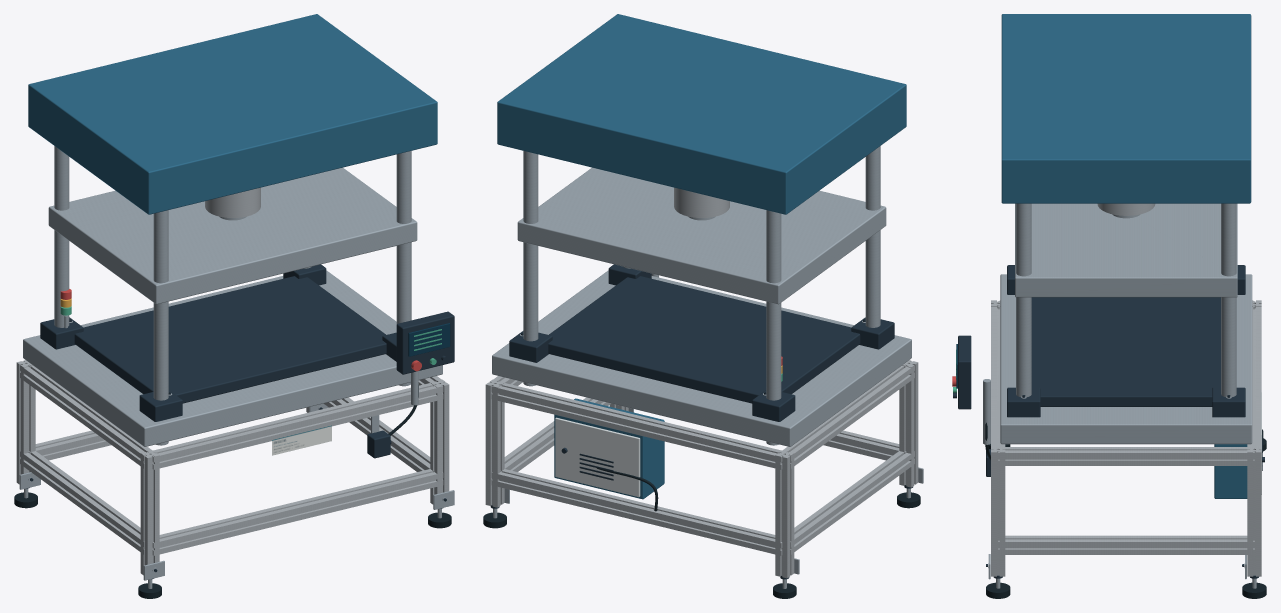
File: hydraulic-press.glb
The picture shows the model from 3 angles, left to right: view 1: azimuth 30°, elevation 25°; view 2: azimuth 150°, elevation 25°; view 3: azimuth 270°, elevation 25°; orthographic projection. The views are drawn at different scales.
Visible parts, largest first — view 1: PressCrown_70, MovingToolPlate_72, LowerDie_74, LowerToolTable_49, Extrusion_34, Extrusion_35, Extrusion_36, GuideColumn_55, Extrusion_37, GuideColumn_65, Extrusion_11, GuideColumn_50 (+11 smaller); view 2: PressCrown_70, MovingToolPlate_72, LowerDie_74, LowerToolTable_49, Extrusion_32, Extrusion_33, BackAccessDoor_41, Extrusion_36, Extrusion_37, GuideColumn_50, GuideColumn_60, Extrusion_3 (+10 smaller); view 3: PressCrown_70, LowerDie_74, MovingToolPlate_72, LowerToolTable_49, Extrusion_38, Extrusion_39, GuideColumn_60, GuideColumn_65, Extrusion_27, Extrusion_19, Extrusion_33, Extrusion_35 (+6 smaller).
Boxes of the visible parts, x1,y1,x2,y2 form: PressCrown_70: (28,14,437,214); MovingToolPlate_72: (48,167,417,304); LowerDie_74: (74,276,386,403); LowerToolTable_49: (23,270,442,446); Extrusion_34: (152,469,443,555); Extrusion_35: (146,381,443,469); Extrusion_36: (20,451,144,554); GuideColumn_55: (153,210,168,445); Extrusion_37: (20,365,155,468); GuideColumn_65: (396,151,411,386); Extrusion_11: (140,450,159,575); GuideColumn_50: (54,146,69,327); PressCrown_70: (497,14,906,214); MovingToolPlate_72: (517,167,886,304); LowerDie_74: (548,276,860,403); LowerToolTable_49: (492,270,911,446); Extrusion_32: (491,469,782,555); Extrusion_33: (491,381,788,469); BackAccessDoor_41: (555,417,640,497); Extrusion_36: (790,451,914,554); Extrusion_37: (779,365,914,468); GuideColumn_50: (766,210,781,445); GuideColumn_60: (523,151,538,386); Extrusion_3: (775,450,794,578); PressCrown_70: (1001,14,1251,203); LowerDie_74: (1031,297,1220,406); MovingToolPlate_72: (1015,203,1237,297); LowerToolTable_49: (1000,274,1252,444); Extrusion_38: (998,535,1254,554); Extrusion_39: (998,447,1254,465); GuideColumn_60: (1221,203,1236,396); GuideColumn_65: (1016,203,1031,396); Extrusion_27: (991,446,1005,576); Extrusion_19: (1247,446,1261,576); Extrusion_33: (1247,307,1261,449); Extrusion_35: (991,307,1005,449).
Size of the model in its own units: 1.66 by 2.15 by 1.41.
Materials: 11 (3 with a texture image).
